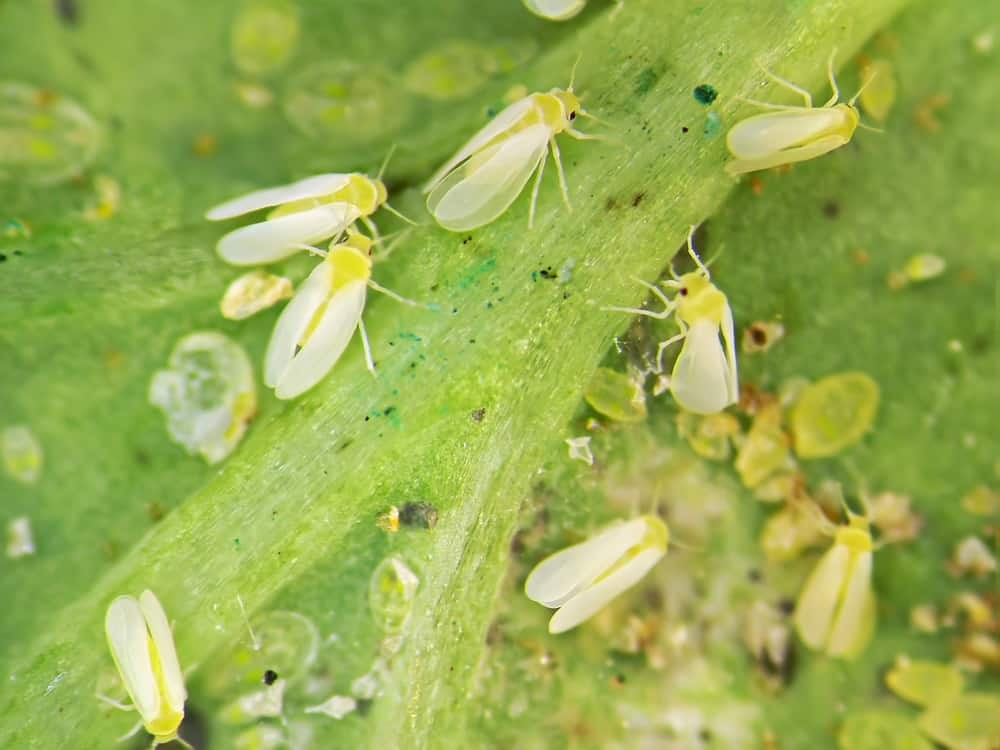Mosca Blanca: (606, 230, 773, 433), (238, 222, 425, 395), (414, 67, 595, 233), (518, 474, 696, 639), (188, 138, 416, 244), (706, 54, 894, 173), (781, 489, 898, 680), (83, 578, 215, 746)
